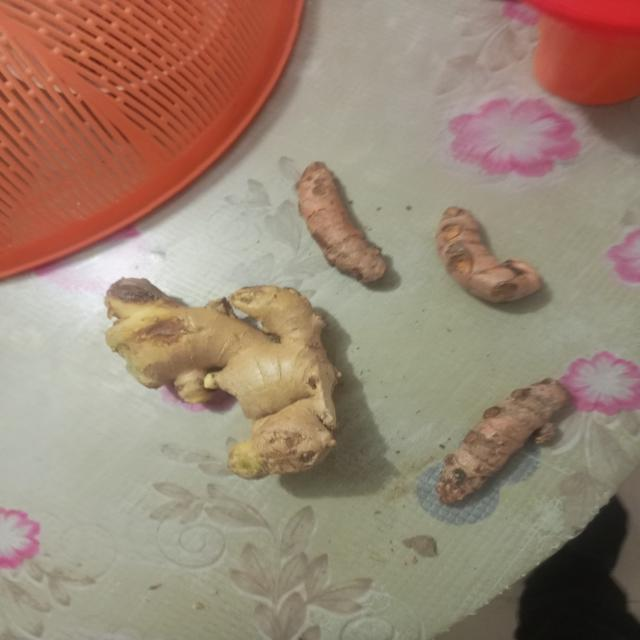ginger: (111, 280, 331, 472), (439, 382, 564, 502), (299, 164, 391, 282), (442, 209, 545, 306)
